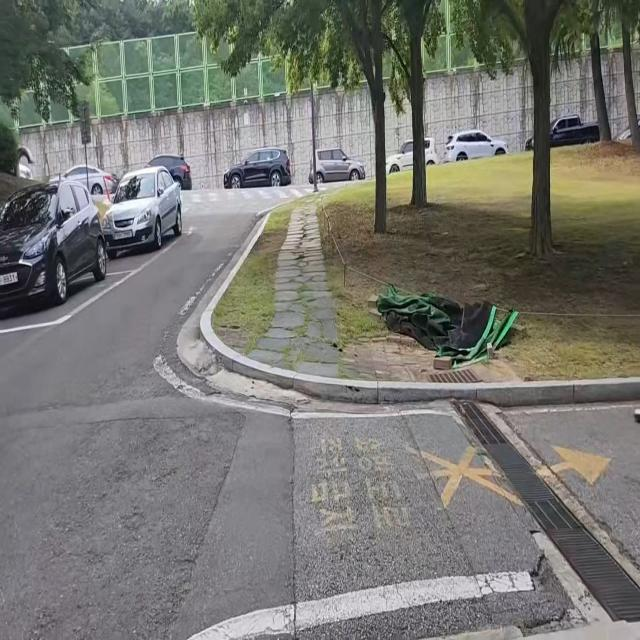obstacle: (0, 169, 116, 317), (371, 284, 529, 379), (99, 159, 192, 264), (430, 350, 458, 378)
road: (0, 188, 640, 640)
